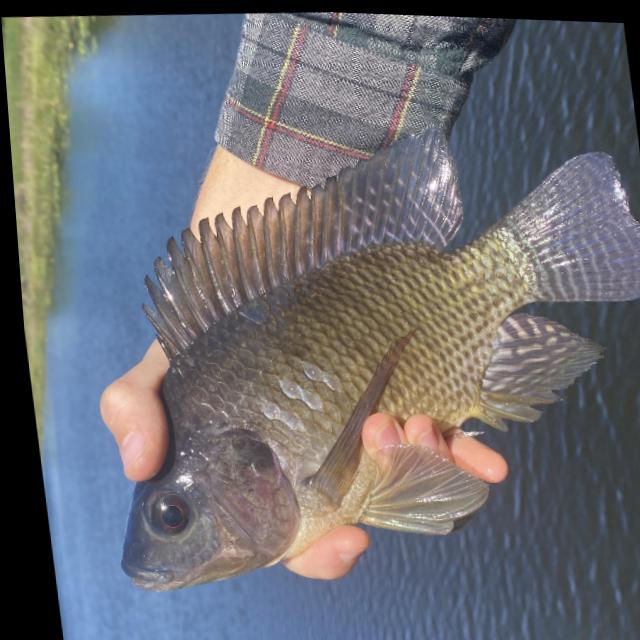Tilapia: (59, 87, 640, 609)
